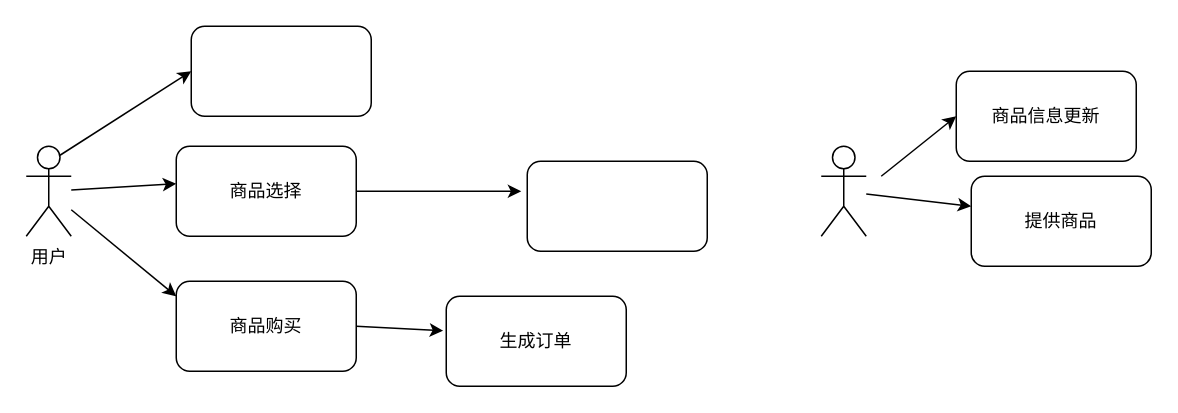
The diagram is 1178 pixels wide and 413 high, and some of its shapes have lost their labels. Here are the shapes that lost their labels. From the top down, the centre of each, then its label:
[280,70]: 个人信息管理
[616,205]: 加入收藏
[843,190]: 提供方
